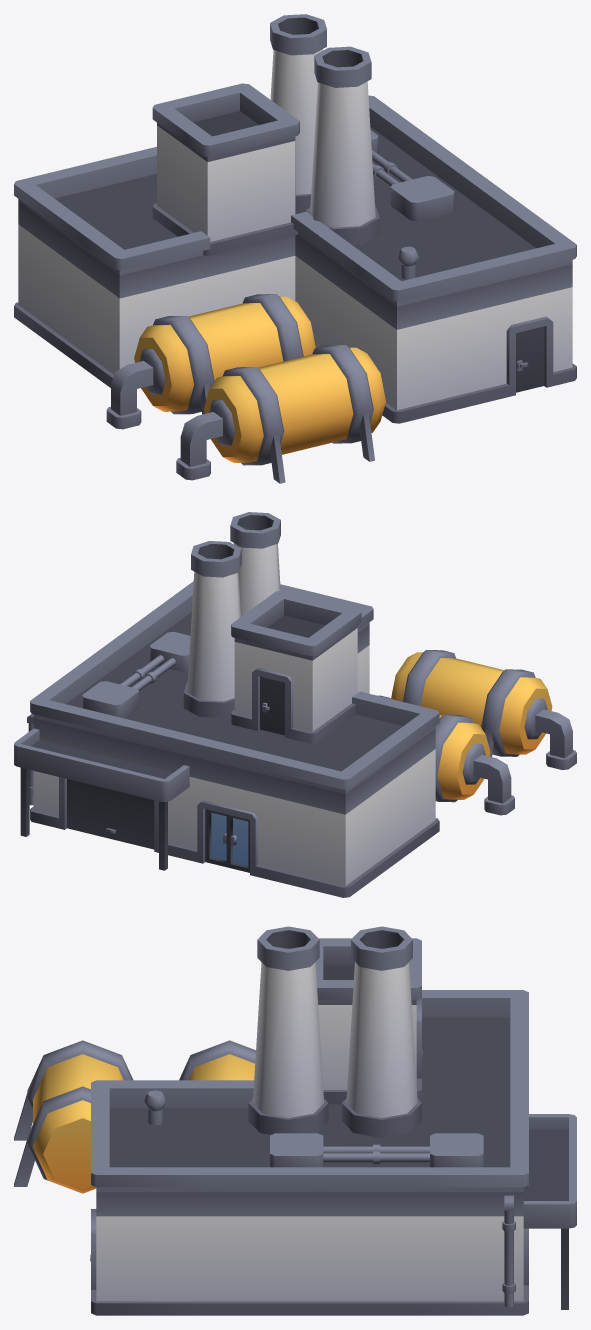
The model's file is warehouse_1.fbx.
3 views of the same model, one above another, from view 1: azimuth 30°, elevation 25°; view 2: azimuth 150°, elevation 25°; view 3: azimuth 270°, elevation 25° (orthographic). The views are drawn at different scales.
Visible parts, largest first — view 1: warehouse_1; view 2: warehouse_1; view 3: warehouse_1.
Part boxes in pixels (<box>): warehouse_1: <box>14,14,576,483</box>; warehouse_1: <box>14,512,576,897</box>; warehouse_1: <box>14,926,576,1315</box>.
Size of the model in its own units: 1.88 by 1.25 by 2.11.
2 materials, 2 textured.
